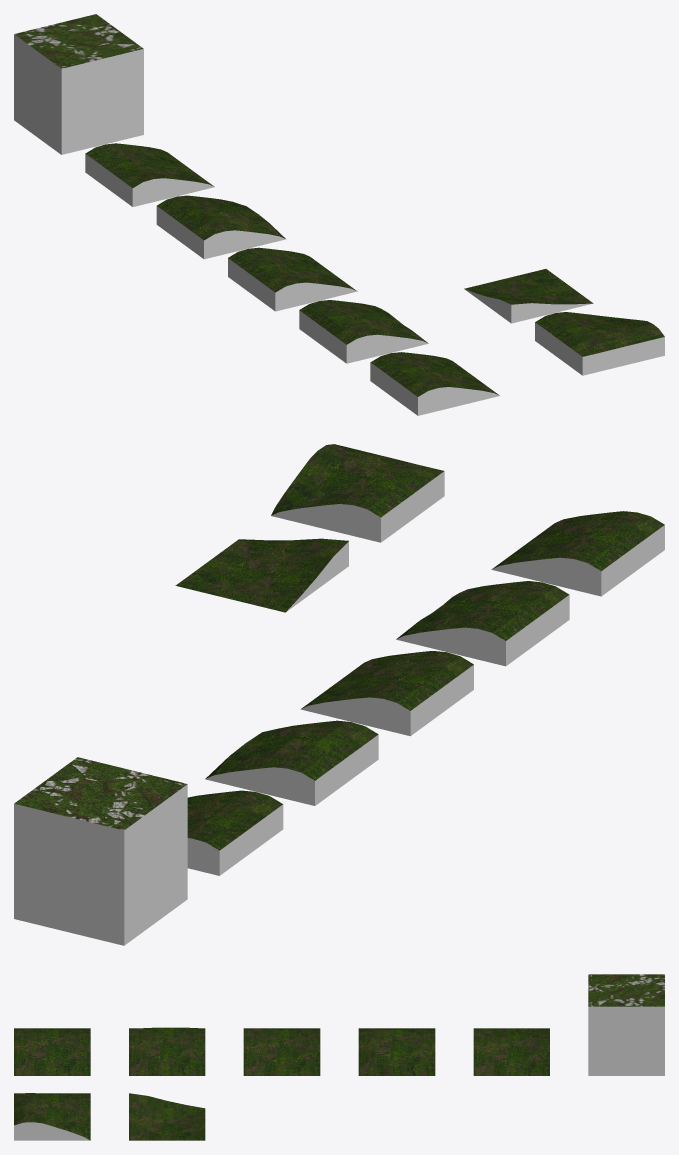
File: forest_grid.glb
The picture shows the model from 3 angles, top to bottom: view 1: azimuth 30°, elevation 25°; view 2: azimuth 150°, elevation 25°; view 3: azimuth 270°, elevation 25°; orthographic projection. The views are drawn at different scales.
Visible parts, largest first — view 1: Ground, OuterCornerWall, Wall4, Wall2, Wall1, Wall5, Wall 3, InnerCornerWall; view 2: Ground, OuterCornerWall, Wall4, Wall2, Wall1, Wall 3, InnerCornerWall, Wall5; view 3: Ground, Wall 3, Wall4, Wall2, Wall1, Wall5, OuterCornerWall, InnerCornerWall.
Part boxes in pixels (x1,y1,x2,y2): Ground: (14, 14, 143, 154); OuterCornerWall: (535, 312, 664, 375); Wall4: (156, 195, 285, 259); Wall2: (299, 300, 428, 363); Wall1: (370, 352, 499, 415); Wall5: (85, 143, 214, 206); Wall 3: (228, 247, 357, 311); InnerCornerWall: (464, 269, 593, 323); Ground: (14, 757, 187, 945); OuterCornerWall: (271, 444, 444, 542); Wall4: (205, 720, 378, 805); Wall2: (396, 581, 569, 666); Wall1: (491, 511, 664, 596); Wall 3: (300, 651, 473, 736); InnerCornerWall: (175, 538, 348, 612); Wall5: (187, 790, 283, 875); Ground: (588, 974, 664, 1075); Wall 3: (243, 1028, 320, 1075); Wall4: (358, 1028, 435, 1075); Wall2: (129, 1027, 205, 1075); Wall1: (14, 1028, 90, 1075); Wall5: (473, 1028, 549, 1075); OuterCornerWall: (14, 1093, 90, 1140); InnerCornerWall: (129, 1093, 205, 1140).
Size of the model in its own units: 3 by 1 by 8.5.
Materials: 3 (2 with a texture image).
